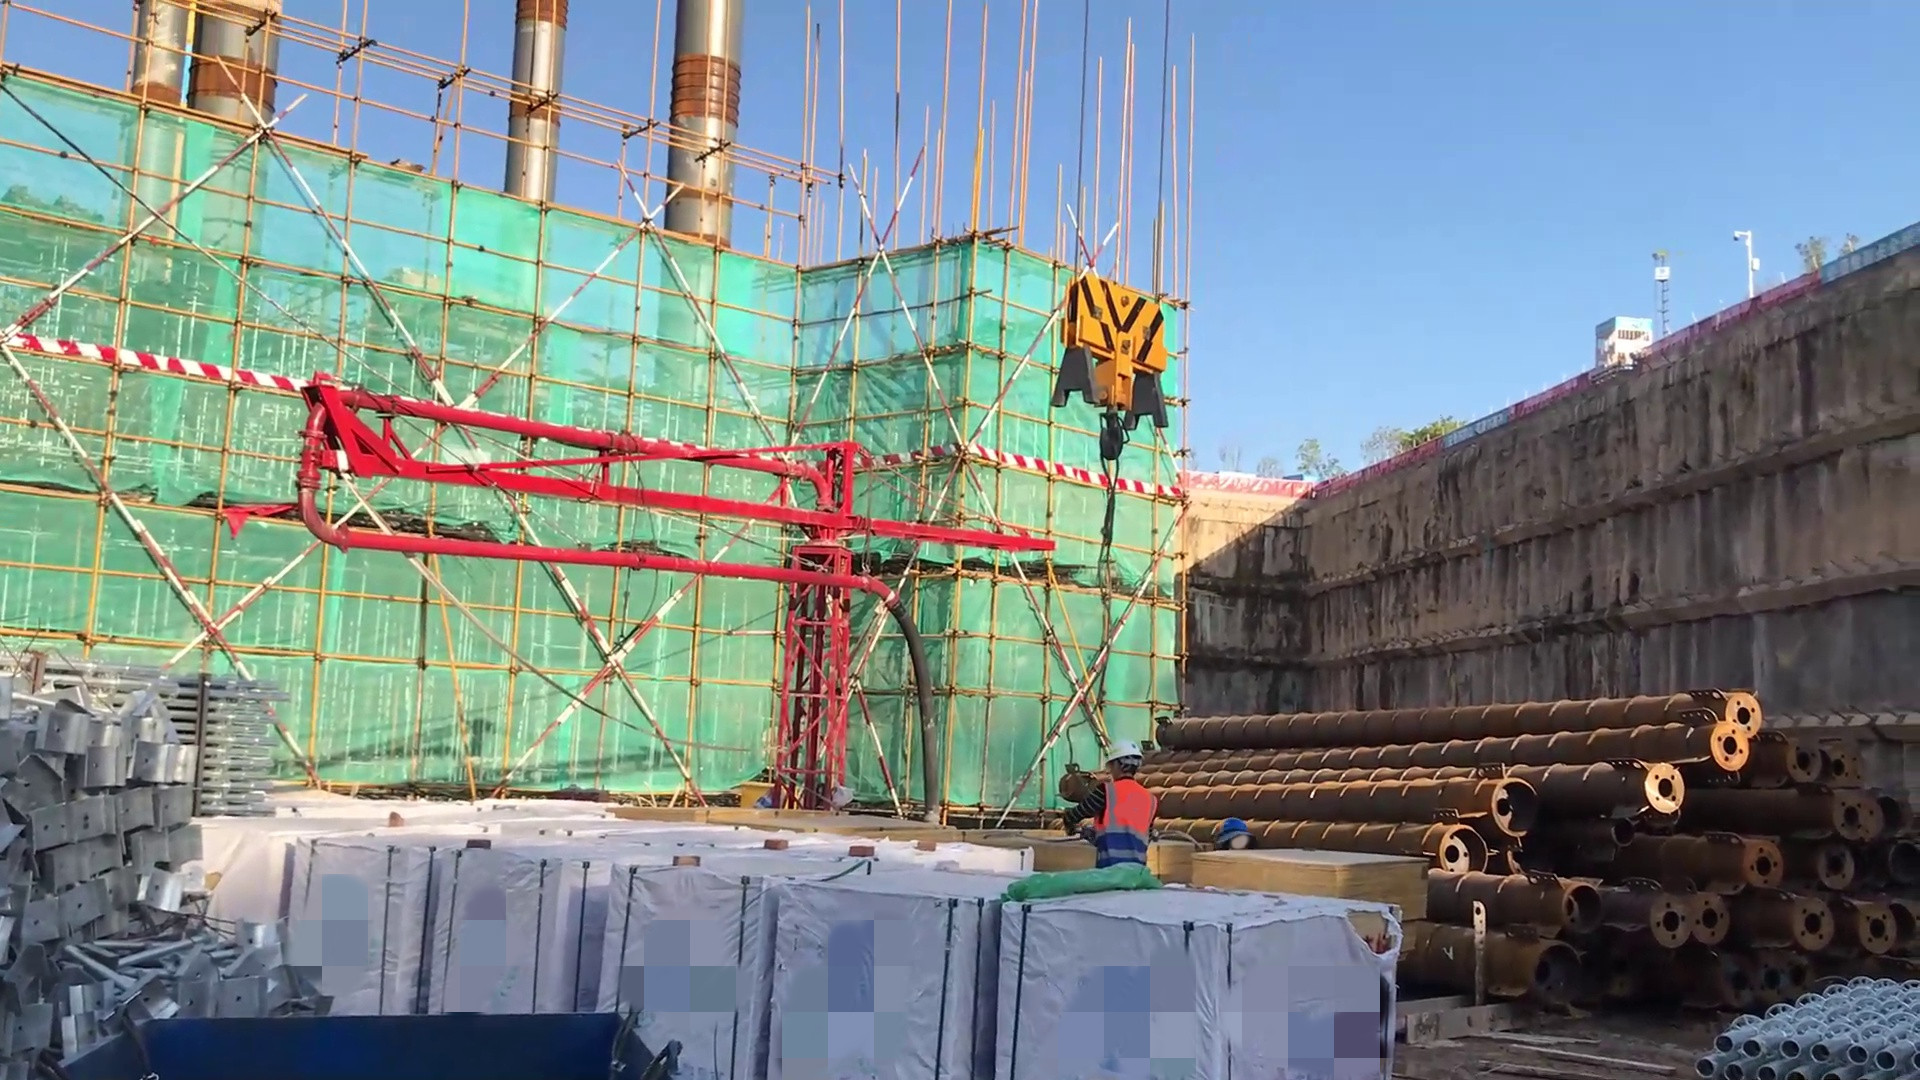board: (1175, 840, 1427, 941), (1146, 839, 1211, 880)
ebox: (727, 778, 808, 816)
helmet: (1208, 816, 1258, 858), (1105, 738, 1144, 787)
hook: (1036, 266, 1198, 505)
hopper: (89, 974, 676, 1080)
person: (1060, 739, 1164, 912)
scaffold: (1688, 977, 1920, 1079), (169, 649, 287, 817)
slogan: (1805, 218, 1920, 287), (1437, 407, 1523, 456)
vest: (1085, 772, 1163, 886)
